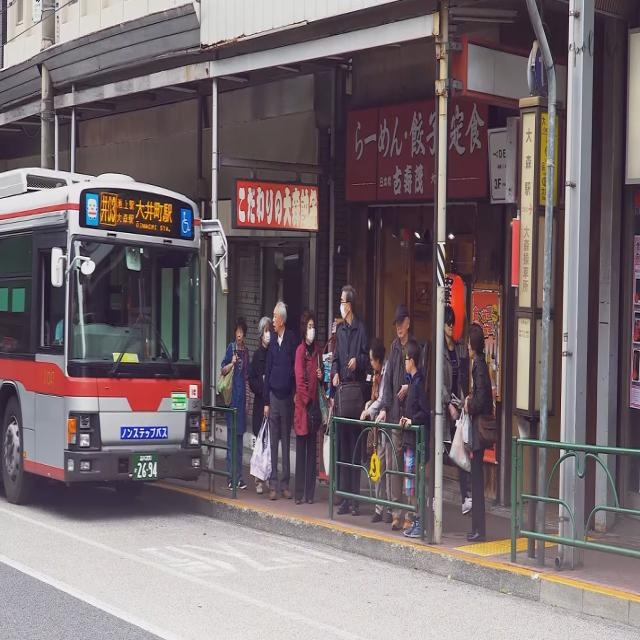Bus: (0, 158, 230, 503)
